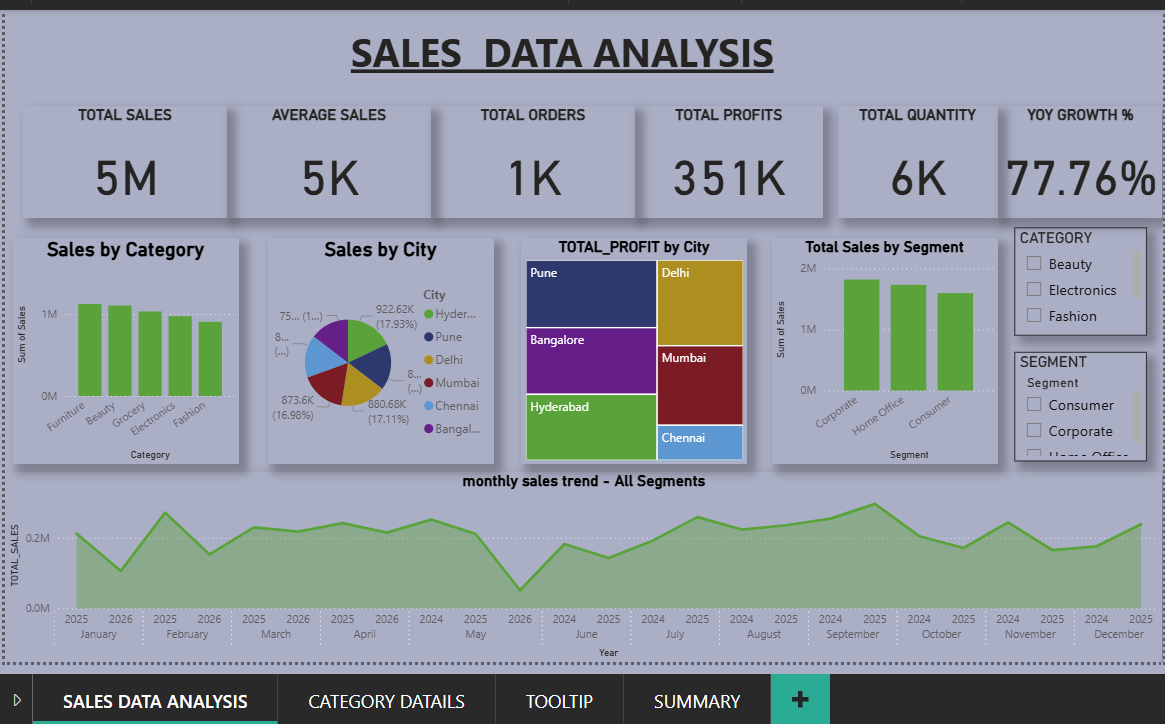

The dashboard page shown, as its layout file describes it:
{"tool":"powerbi","page":{"name":"SALES DATA ANALYSIS","canvas":[1280,720],"ordinal":0},"visuals":[{"type":"card","title":"TOTAL SALES","fields":{"Values":["sales_data.TOTAL_SALES"]},"box":[19.9,106,225.3,124.2],"z":0},{"type":"card","title":"TOTAL ORDERS","fields":{"Values":["sales_data.COUNT_ORDERS"]},"box":[470.4,106,225.3,124.2],"z":1000},{"type":"card","title":"AVERAGE SALES","fields":{"Values":["sales_data.AVERAGE_SALES"]},"box":[245.2,106,225.3,124.2],"z":2000},{"type":"slicer","title":"CATEGORY","fields":{"Values":["sales_data.Category"]},"box":[1114.8,240.2,145.8,119.3],"z":3000},{"type":"slicer","title":"SEGMENT","fields":{"Values":["sales_data.Segment"]},"box":[1114.8,377.7,145.8,120.9],"z":4000},{"type":"clusteredColumnChart","title":"Sales by Category","fields":{"Y":["Sum(sales_data.Sales)"],"Category":["sales_data.Category"]},"box":[8.3,251.8,250.1,250.1],"z":5000},{"type":"lineClusteredColumnComboChart","title":"Total Sales by Segment","fields":{"Y":["Sum(sales_data.Sales)"],"Category":["sales_data.Segment"]},"box":[846.5,251.8,250.1,250.1],"z":6000},{"type":"stackedAreaChart","fields":{"Category":["Calendar.Month Name","Calendar.Year"],"Y":["sales_data.TOTAL_SALES"]},"box":[0,510.2,1278.8,210.4],"z":7000},{"type":"pieChart","title":" Sales by City","fields":{"Y":["Sum(sales_data.Sales)"],"Category":["sales_data.City"]},"box":[289.9,251.8,250.1,250.1],"z":8000},{"type":"treemap","fields":{"Group":["sales_data.City"],"Values":["sales_data.TOTAL_PROFIT"]},"box":[569.8,251.8,250.1,250.1],"z":9000},{"type":"card","title":"TOTAL PROFITS","fields":{"Values":["sales_data.TOTAL_PROFIT"]},"box":[695.7,106,207.1,124.2],"z":10000},{"type":"card","title":"TOTAL QUANTITY","fields":{"Values":["sales_data.TOTAL_QUANTITY"]},"box":[919.3,106,177.2,124.2],"z":11000},{"type":"card","title":"YOY GROWTH %","fields":{"Values":["sales_data.YoY Growth %"]},"box":[1096.6,106,182.2,124.2],"z":12000},{"type":"textbox","box":[357.8,11.6,515.2,72.9],"z":13000}]}

Visuals, with their boxes on the page's 1280x720 design canvas (x1, y1, x2, y2). These are canvas units, not pixel positions in the 1165x724 screenshot, which may show the page scaled, cropped or inside an application window:
"TOTAL SALES" card: pyautogui.locateOnScreen(20, 106, 245, 230)
"TOTAL ORDERS" card: pyautogui.locateOnScreen(470, 106, 696, 230)
"AVERAGE SALES" card: pyautogui.locateOnScreen(245, 106, 470, 230)
"CATEGORY" slicer: pyautogui.locateOnScreen(1115, 240, 1261, 360)
"SEGMENT" slicer: pyautogui.locateOnScreen(1115, 378, 1261, 499)
"Sales by Category" clusteredColumnChart: pyautogui.locateOnScreen(8, 252, 258, 502)
"Total Sales by Segment" lineClusteredColumnComboChart: pyautogui.locateOnScreen(846, 252, 1097, 502)
stackedAreaChart - Calendar.Month Name x Calendar.Year: pyautogui.locateOnScreen(0, 510, 1279, 721)
" Sales by City" pieChart: pyautogui.locateOnScreen(290, 252, 540, 502)
treemap - sales_data.City x sales_data.TOTAL_PROFIT: pyautogui.locateOnScreen(570, 252, 820, 502)
"TOTAL PROFITS" card: pyautogui.locateOnScreen(696, 106, 903, 230)
"TOTAL QUANTITY" card: pyautogui.locateOnScreen(919, 106, 1096, 230)
"YOY GROWTH %" card: pyautogui.locateOnScreen(1097, 106, 1279, 230)
textbox: pyautogui.locateOnScreen(358, 12, 873, 84)
